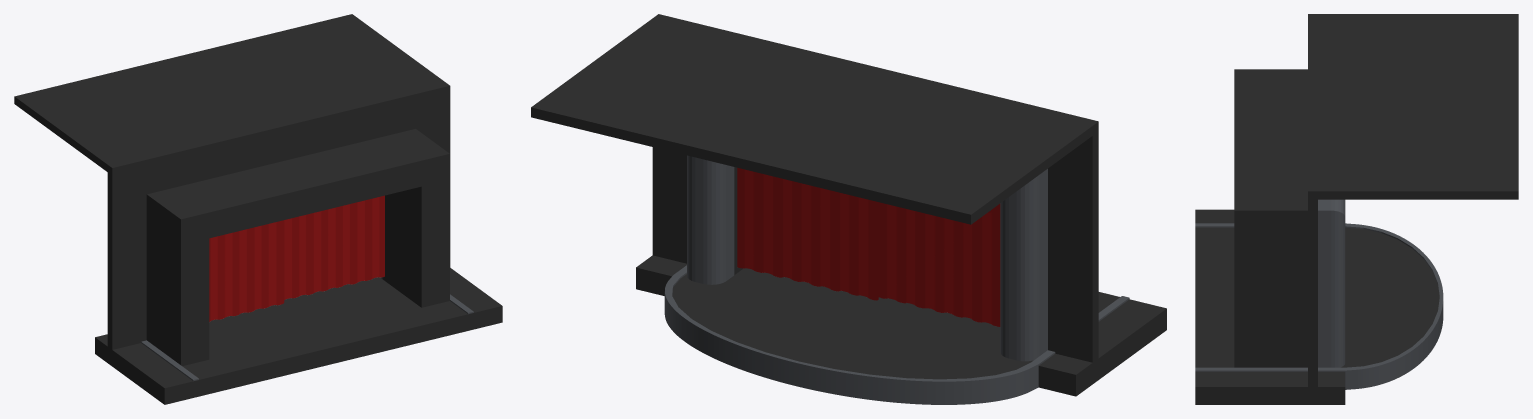
File: MOD_Test_Scenario.fbx
3 renders of one model, left to right at view 1: azimuth 30°, elevation 25°; view 2: azimuth 150°, elevation 25°; view 3: azimuth 270°, elevation 25°, orthographic. The views are drawn at different scales.
Visible parts, largest first — view 1: Frame, Floor, CurtainLeft, Curtain Right; view 2: Frame, Floor, CurtainLeft, Curtain Right; view 3: Frame, Floor.
Part boxes in pixels (<box>): Frame: <box>14,14,450,366</box>; Floor: <box>95,267,502,404</box>; CurtainLeft: <box>284,195,384,299</box>; Curtain Right: <box>209,220,284,321</box>; Frame: <box>531,14,1098,362</box>; Floor: <box>636,255,1166,404</box>; CurtainLeft: <box>737,167,878,300</box>; Curtain Right: <box>878,202,1000,326</box>; Frame: <box>1234,14,1518,386</box>; Floor: <box>1195,209,1443,404</box>.
Size of the model in its own units: 6423 by 3607 by 4949.
Materials: 4 (4 with a texture image).
